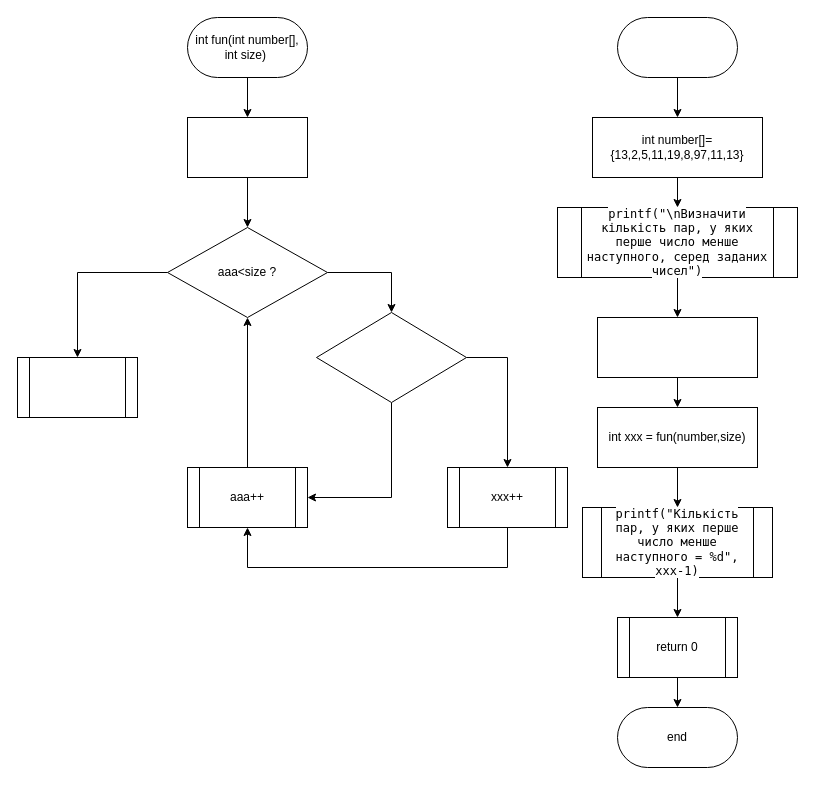
The diagram is 815 pixels wide and 785 high, and some of its shapes have lost their labels. The centre of each missing label's shape, as x and y in pixels:
"int main()" goes at pixel 677 47.
"int size = sizeof(number)/sizeof(int)" goes at pixel 677 347.
"int xxx = 0 int aaa = 0" goes at pixel 247 147.
"number[aaa+1]> number[aaa]?" goes at pixel 391 357.
"return xxx;" goes at pixel 77 387.
